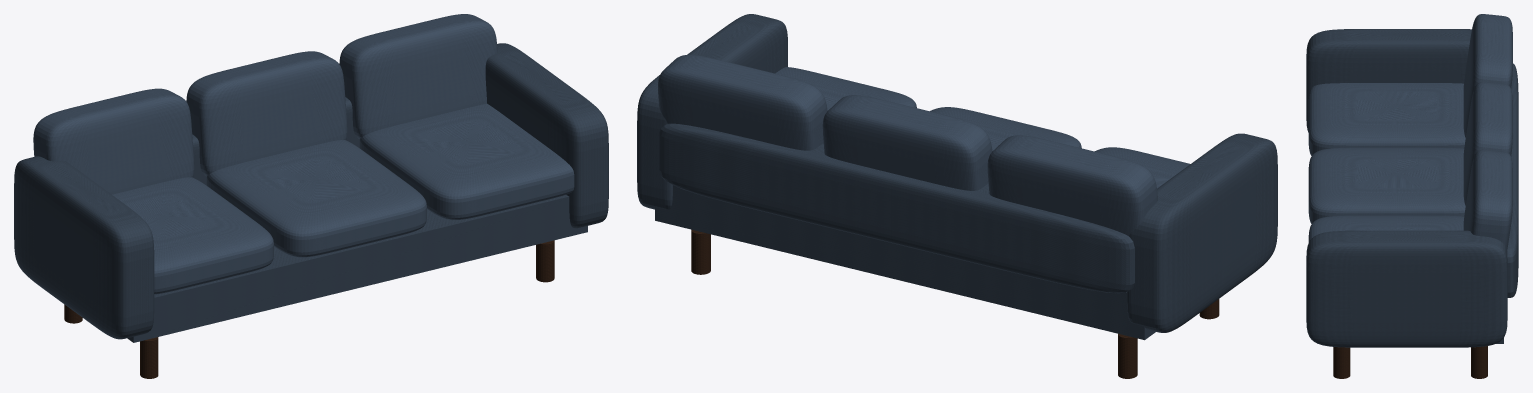
Rendered from sofa-3.glb.
3 views of the same model, side by side, from view 1: azimuth 30°, elevation 25°; view 2: azimuth 150°, elevation 25°; view 3: azimuth 270°, elevation 25° (orthographic). The views are drawn at different scales.
Visible parts, largest first — view 1: frame_base, arm_left, seat_2, seat_3, back_2, back_3, back_1, seat_1, arm_right, leg_4, leg_3, back_rail; view 2: back_rail, arm_left, frame_base, back_3, back_2, back_1, arm_right, seat_2, seat_3, seat_1, leg_1, leg_2; view 3: arm_right, seat_2, seat_1, arm_left, back_3, back_2, back_1, seat_3, back_rail, leg_4, leg_2.
Part boxes in pixels (x1,y1,x2,y2): frame_base: (127,195,587,342); arm_left: (14,156,154,339); seat_2: (206,140,426,257); seat_3: (359,103,574,219); back_2: (186,51,347,176); back_3: (339,14,497,138); back_1: (33,88,194,194); seat_1: (112,177,273,294); arm_right: (485,43,608,228); leg_4: (536,240,554,282); leg_3: (140,337,158,378); back_rail: (192,97,359,185); back_rail: (659,123,1134,293); arm_left: (1127,133,1277,332); frame_base: (655,185,1155,340); back_3: (658,54,827,150); back_2: (822,95,992,190); back_1: (987,135,1157,236); arm_right: (637,14,787,209); seat_2: (930,107,1081,150); seat_3: (775,67,916,110); seat_1: (1094,147,1190,188); leg_1: (1118,333,1137,378); leg_2: (691,229,710,274); arm_right: (1306,230,1507,347); seat_2: (1308,147,1465,223); seat_1: (1308,83,1465,155); arm_left: (1306,29,1471,132); back_3: (1463,149,1512,250); back_2: (1463,82,1512,205); back_1: (1463,14,1512,137); seat_3: (1308,215,1464,242); back_rail: (1507,63,1518,297); leg_4: (1333,347,1350,378); leg_2: (1471,346,1487,378).
Bounding box in the file's own units: 2.2 × 0.85 × 0.9.
3 materials, 3 textured.
